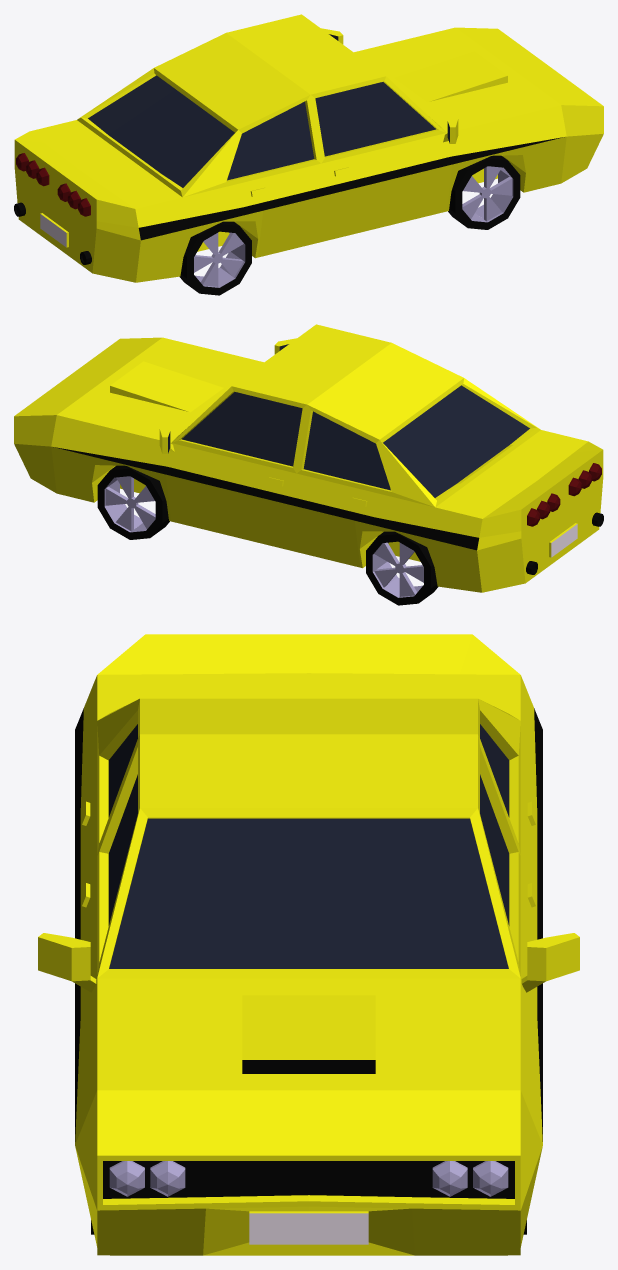
Rendered from muscle.glb.
The picture shows the model from 3 angles, top to bottom: view 1: azimuth 30°, elevation 25°; view 2: azimuth 150°, elevation 25°; view 3: azimuth 270°, elevation 25°; orthographic projection. The views are drawn at different scales.
Parts seen in each view (by area): view 1: body_paint, body_glass, body_trim, wheel_rr_rim (×2), wheel_fr_tire (×2), wheel_fr_rim, wheel_rr_tire, body_tail, body_chrome; view 2: body_paint, body_glass, body_trim, wheel_rl_rim (×2), wheel_fl_tire (×2), wheel_fl_rim, wheel_rl_tire, body_tail, body_chrome; view 3: body_paint, body_glass, body_tire, body_lamp, body_trim, body_chrome.
Part boxes in pixels (x1,y1,x2,y2): body_paint: (14,14,603,282); body_glass: (88,34,449,187); body_trim: (138,137,564,240); wheel_rr_rim (×2): (194,232,245,287); wheel_fr_tire (×2): (448,155,520,229); wheel_fr_rim: (462,166,513,222); wheel_rr_tire: (184,223,251,295); body_tail: (16,153,90,216); body_chrome: (40,214,66,247); body_paint: (14,324,603,592); body_glass: (168,344,529,497); body_trim: (53,447,479,550); wheel_rl_rim (×2): (372,542,423,597); wheel_fl_tire (×2): (97,465,169,539); wheel_fl_rim: (104,476,155,532); wheel_rl_tire: (366,533,433,605); body_tail: (527,463,601,526); body_chrome: (551,524,577,557); body_paint: (38,634,579,1255); body_glass: (108,724,509,968); body_tire: (103,1060,514,1198); body_lamp: (109,1161,508,1196); body_trim: (75,708,542,1141); body_chrome: (249,1213,368,1244).
Size of the model in its own units: 6.06 by 1.91 by 2.81.
